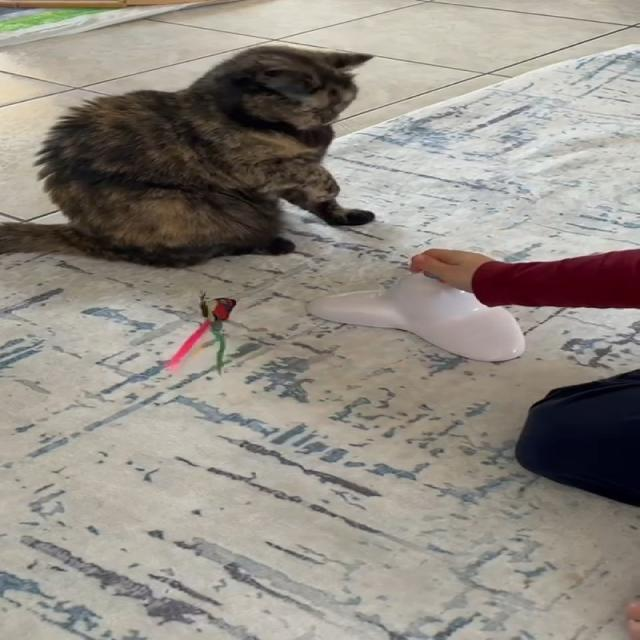authorized: (0, 44, 376, 268)
